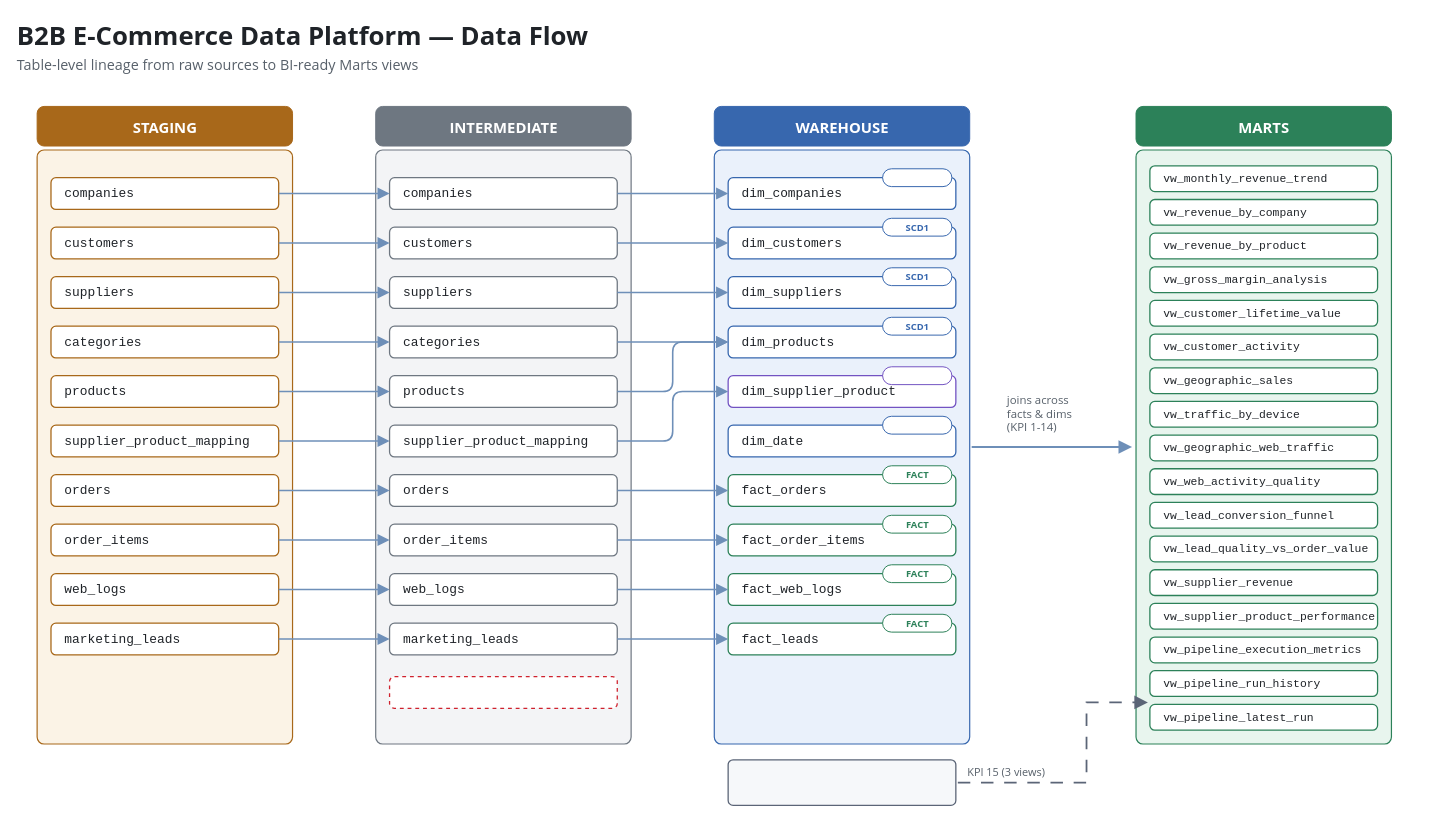
Image size: 1449x823. Some labels were removed from this diagram. Each missing label, with the centre of its shape:
BRIDGE: the point at 917,375
GENERATED: the point at 917,424
metadata pipeline_run_log · watermarks: the point at 841,782
rejected_records (quarantine): the point at 502,692
SCD2: the point at 917,177
